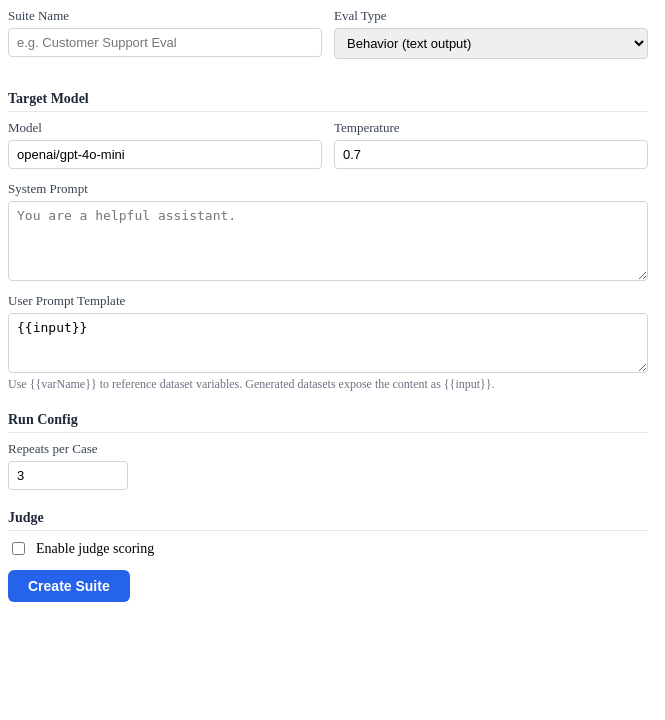
Test: SuiteForm › hides ToolSchemaEditor when type switches back to behavior
Select "Tool Use" in the dropdown labelled "Eval Type": x=491, y=44 [334,28,648,59]
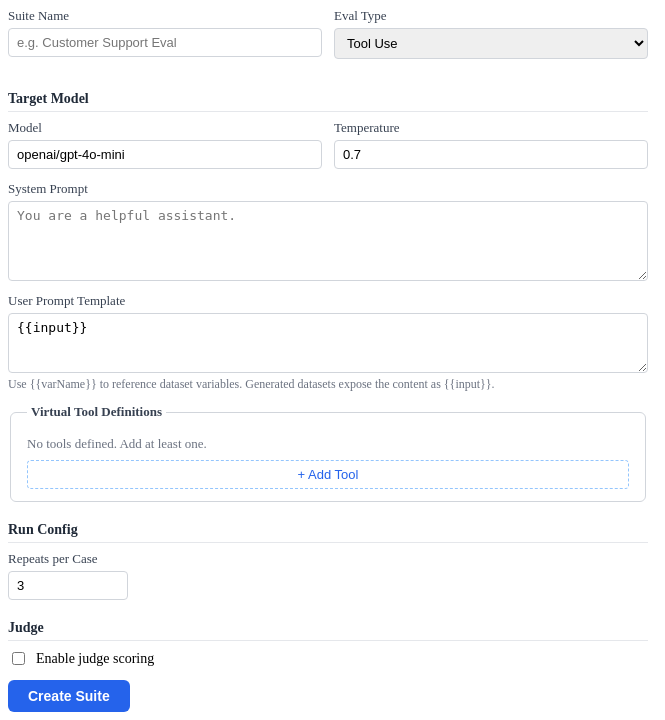
Expected: the text "Virtual Tool Definitions" is shown, [27,404,166,420]
Select "Behavior (text output)" in the dropdown labelled "Eval Type": x=491, y=44 [334,28,648,59]
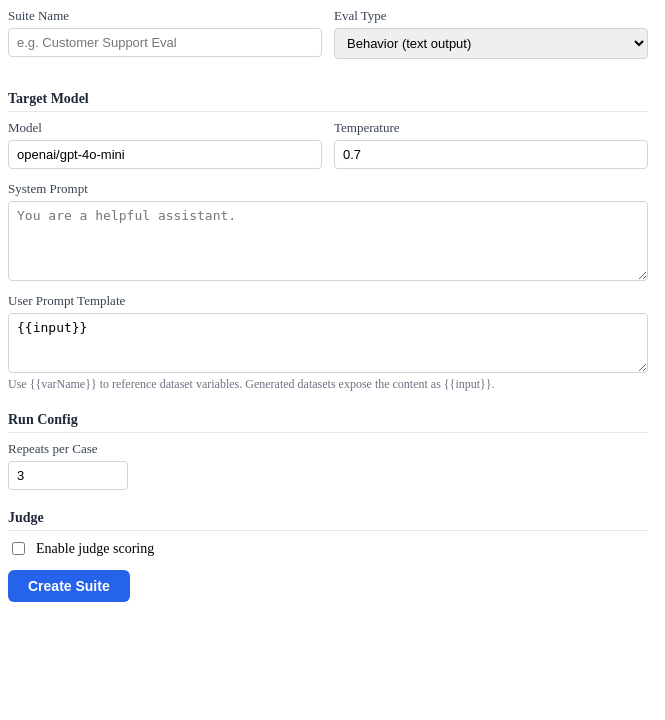
Expected: the text "Virtual Tool Definitions" is gone
